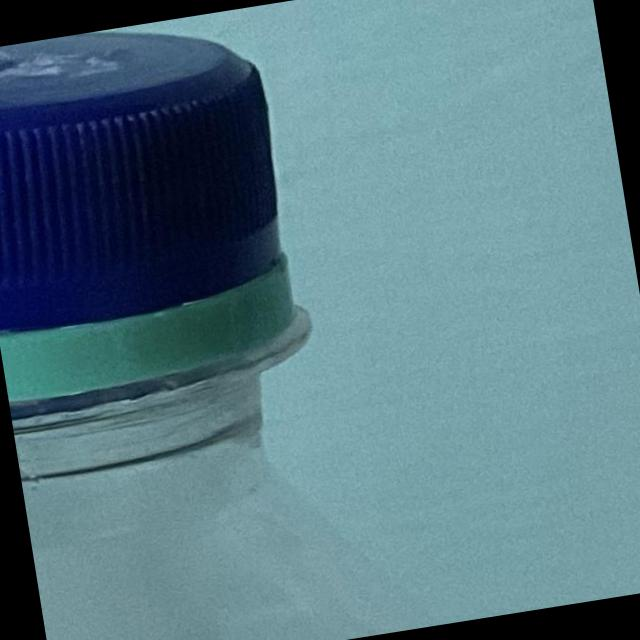Good-cap-Df0S: (0, 4, 325, 409)
